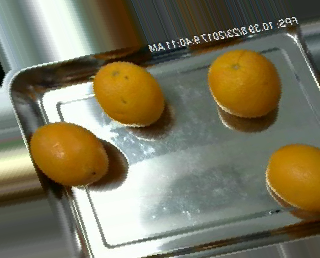Orange: (29, 121, 109, 186), (206, 48, 281, 117), (93, 59, 165, 126), (264, 143, 320, 211)
